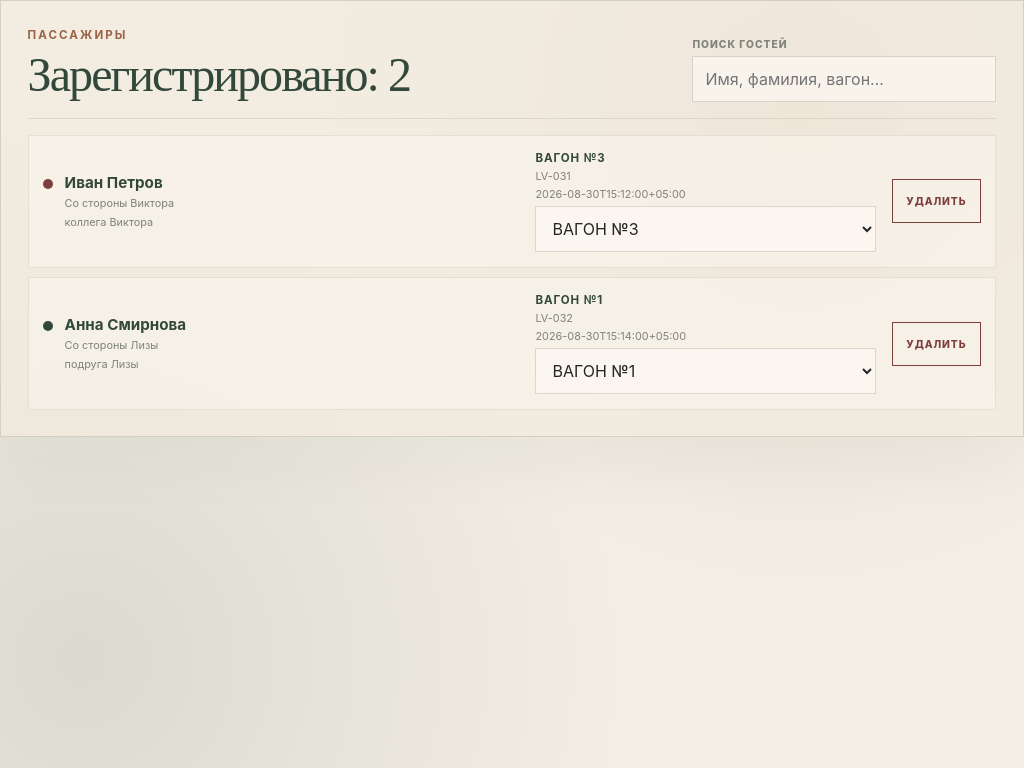
Test case: AdminGuestsPage › reports a row-scoped failure with the latest authoritative carriage
This screenshot has width=1024, height=768.
Select "ВАГОН №4" in the dropdown named "Вагон Иван Петров" at (706, 229), box [535,206,876,252]
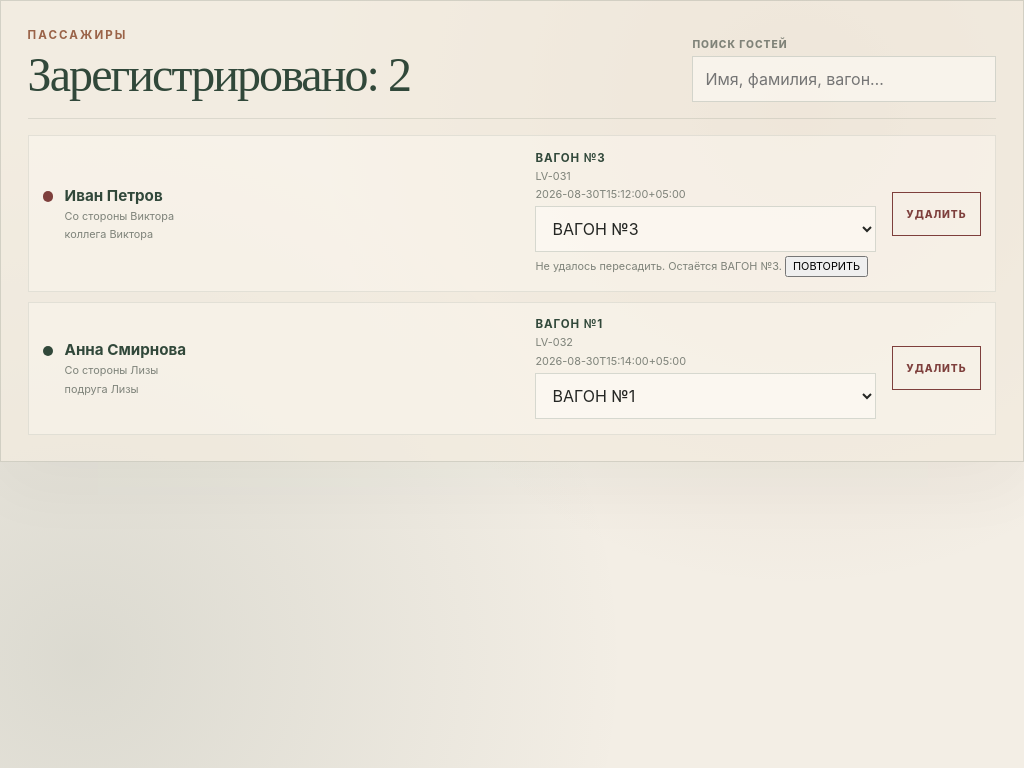
Expected: the message shows "Остаётся ВАГОН №3", [535,256,876,277]
Expected: the button "ПОВТОРИТЬ" is shown, [785,256,868,277]
